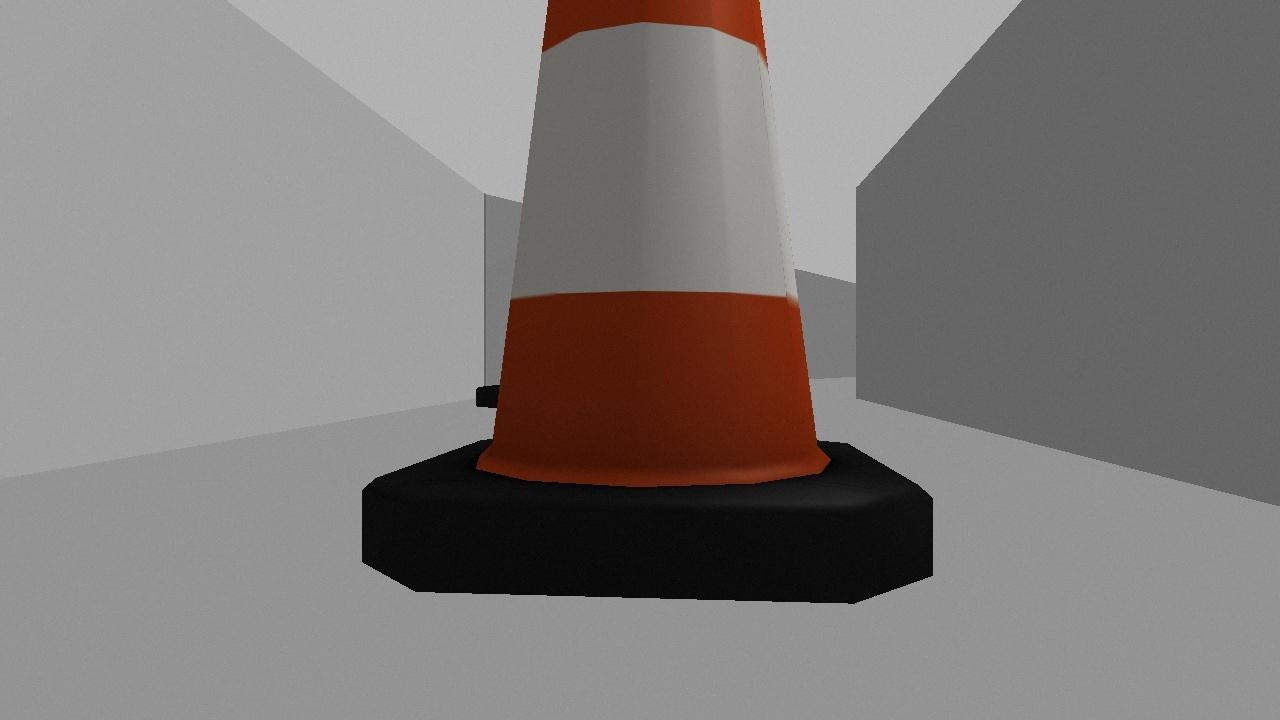cone_barrel: (326, 0, 956, 616)
